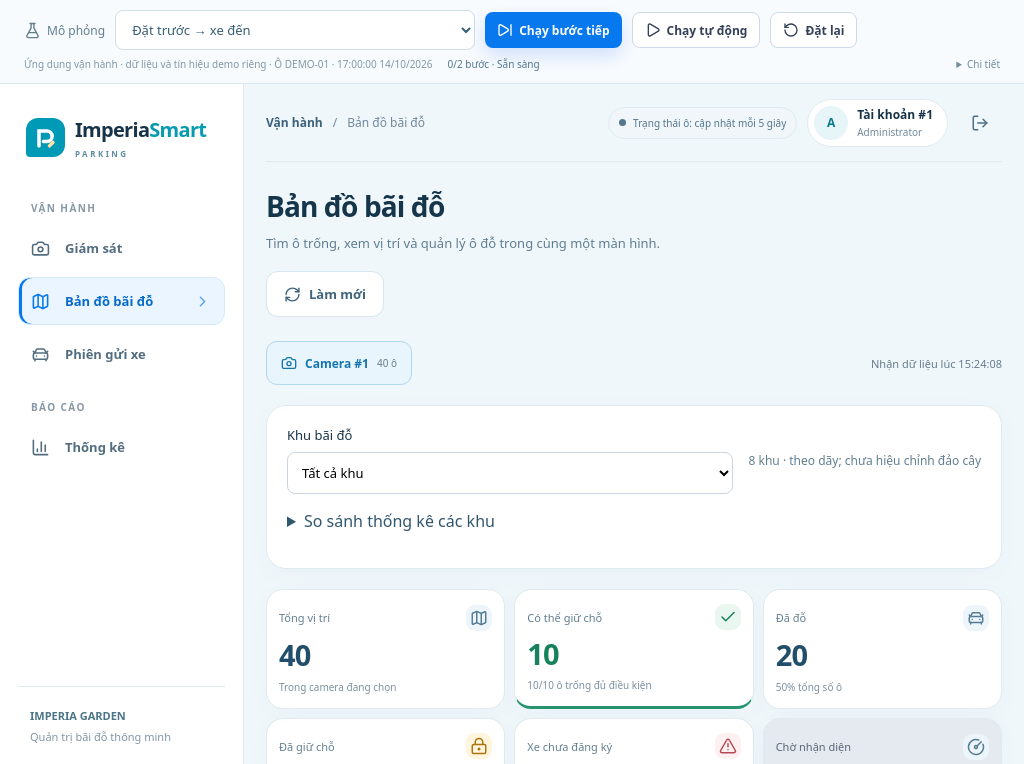
scenario presenter › uses the production map, customer form and scoped production navigation
Expected: the heading "Bản đồ bãi đỗ" is shown, 266,187 -> 444,225
Click the button "Chạy bước tiếp" at (553, 30), box 485,12 -> 622,48
(page scrolled)
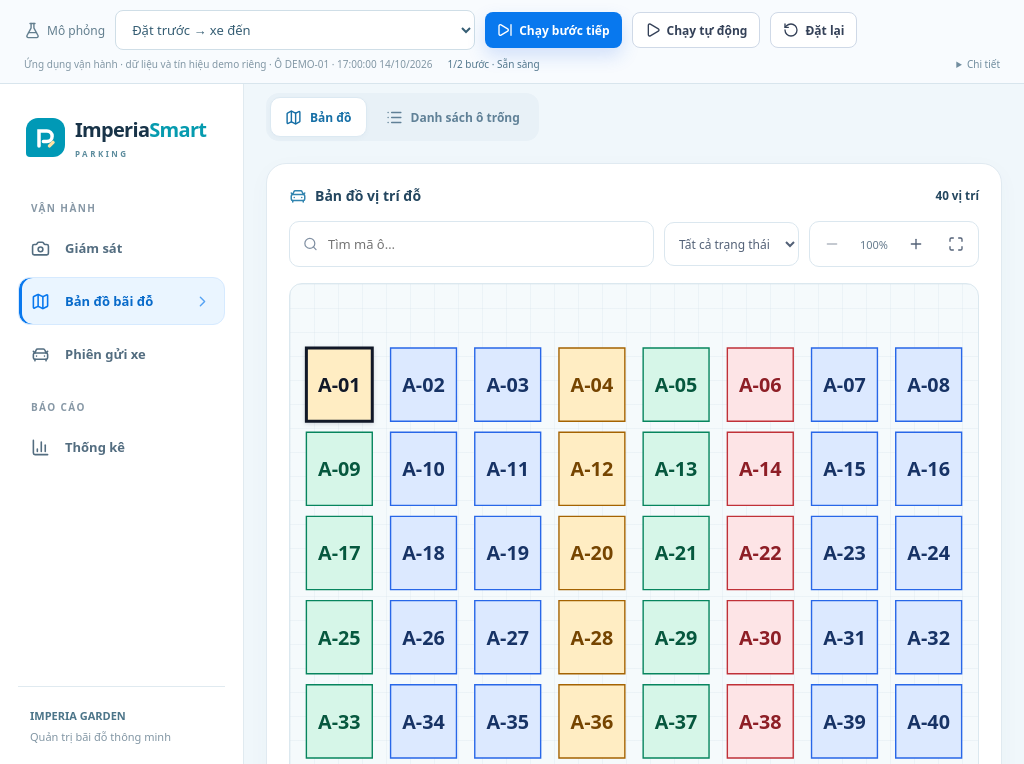
Expected: the text "1/2 bước · Sẵn sàng" is shown, 448,57 -> 540,71
